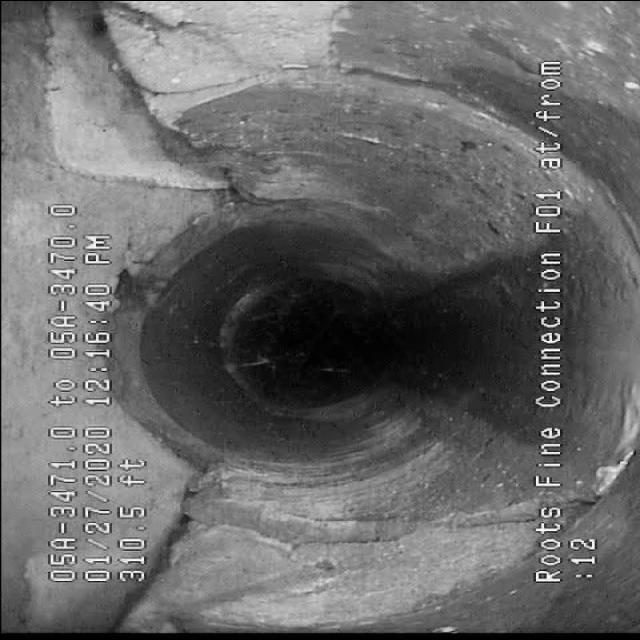Fracture: (89, 486, 232, 627), (142, 59, 290, 195)
